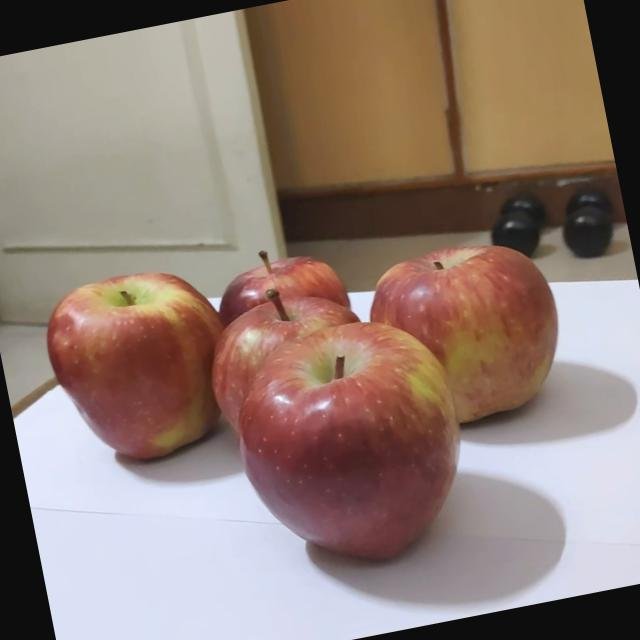apple: (212, 289, 494, 581), (356, 222, 584, 446), (32, 249, 245, 478), (188, 271, 384, 415), (200, 230, 359, 362)
